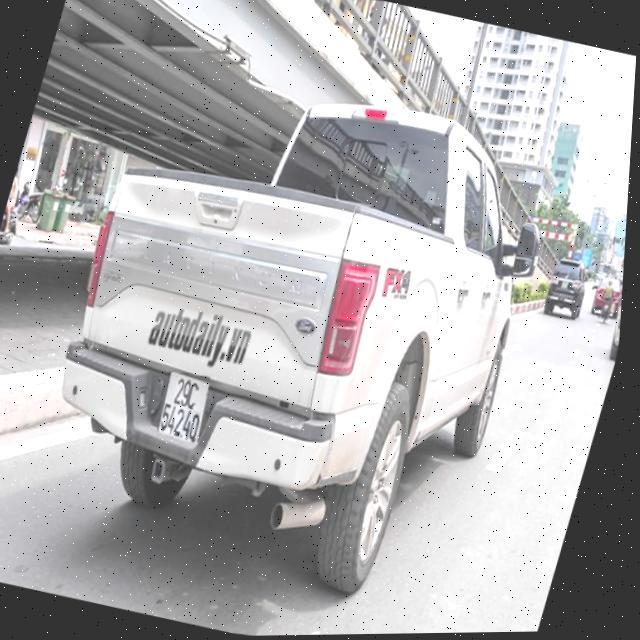car: (1, 61, 598, 616), (534, 251, 596, 322)
plate: (139, 363, 219, 451)
